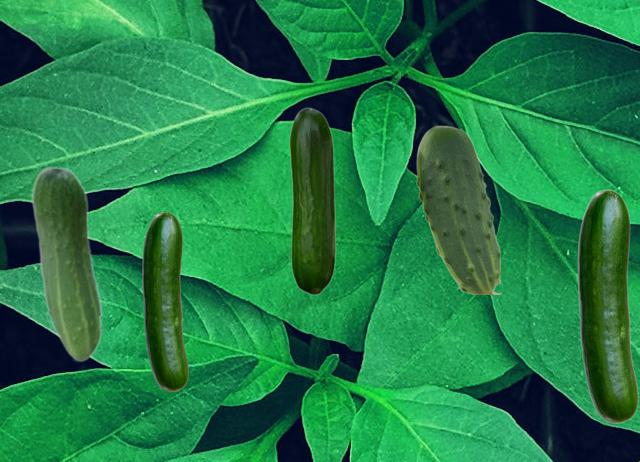cucumber: (577, 189, 637, 422), (416, 125, 499, 293), (31, 165, 102, 361), (289, 107, 335, 294), (142, 212, 187, 390)
